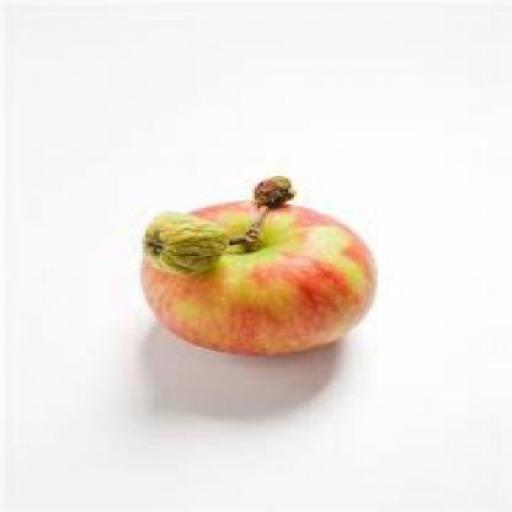biodegradable: (143, 172, 378, 354), (146, 208, 232, 272), (254, 176, 296, 210)
